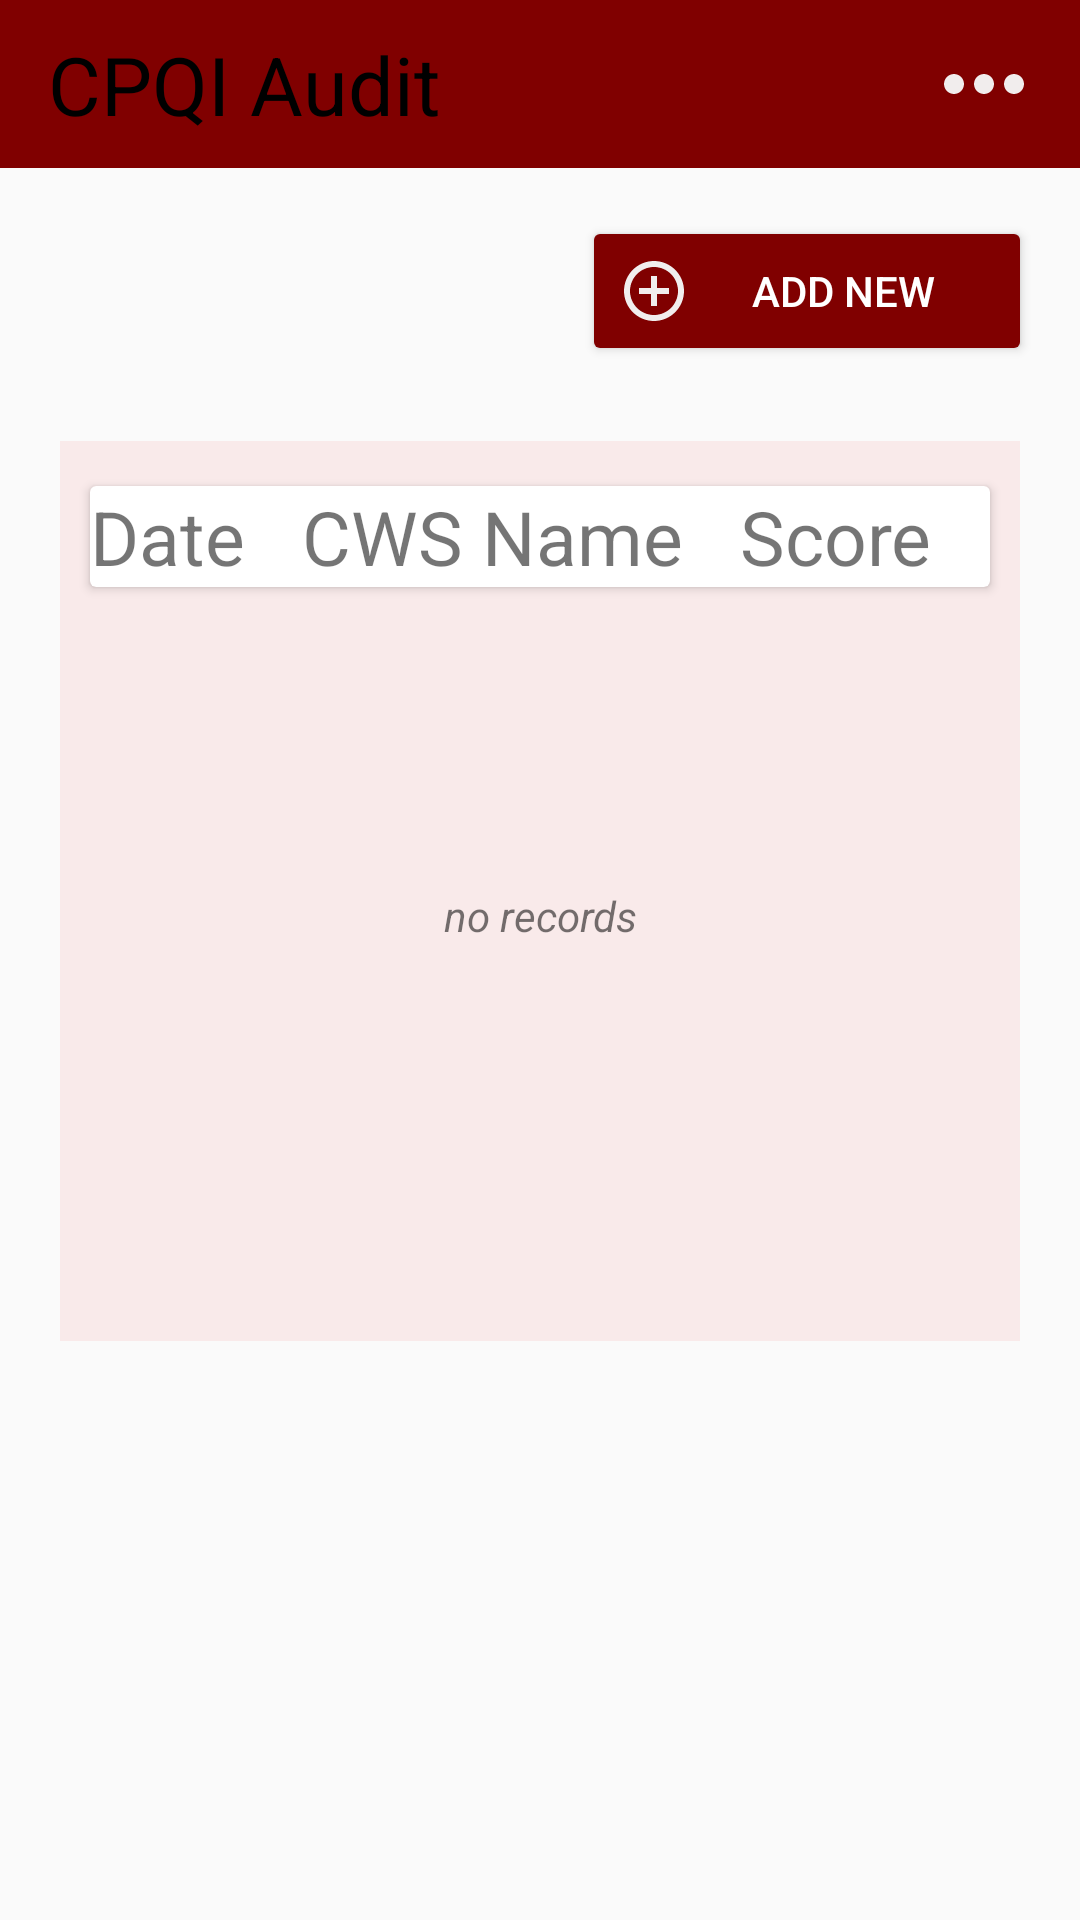

Named icons in this screenshot (1080x1920) and their centers, (x,y):
more horiz: (984,84)
